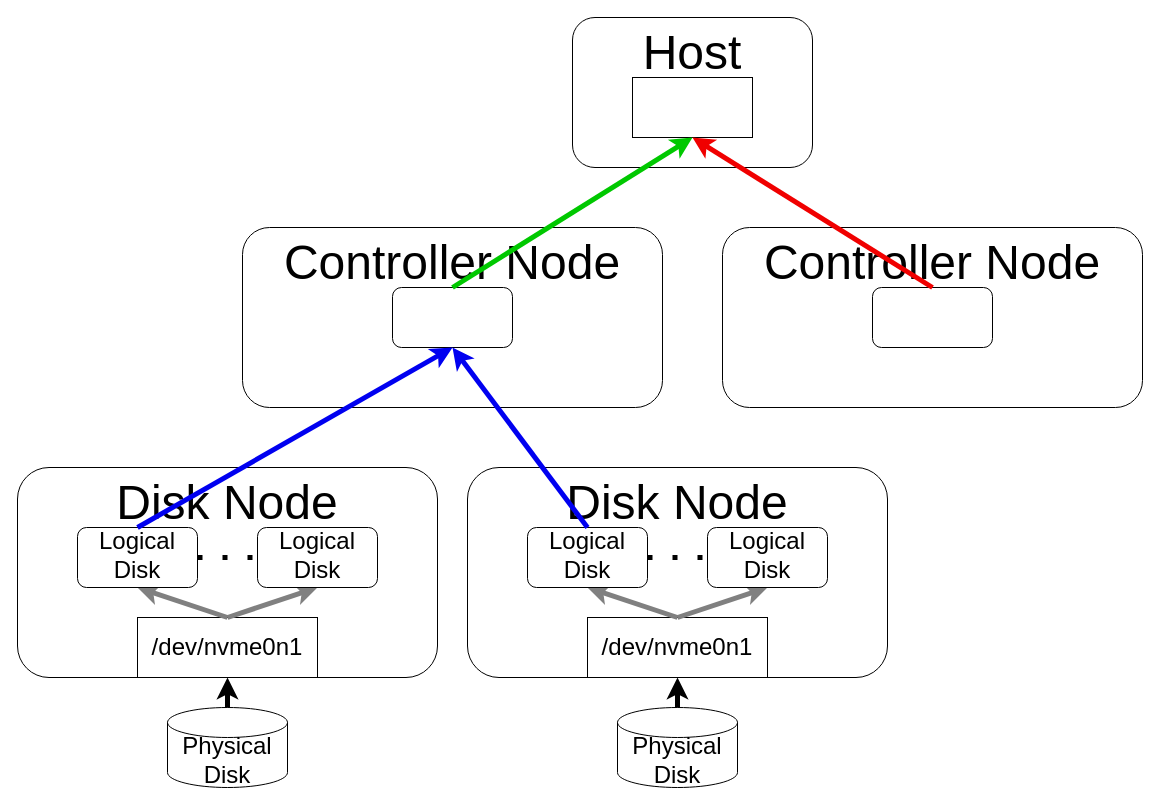
The diagram is 1160 pixels wide and 806 high, and some of its shapes have lost their labels. The centre of each missing label's shape, as x and y in pixels:
Active Controller: (452,317)
nvmeof multipath: (692,107)
Standby Controller: (932,317)
